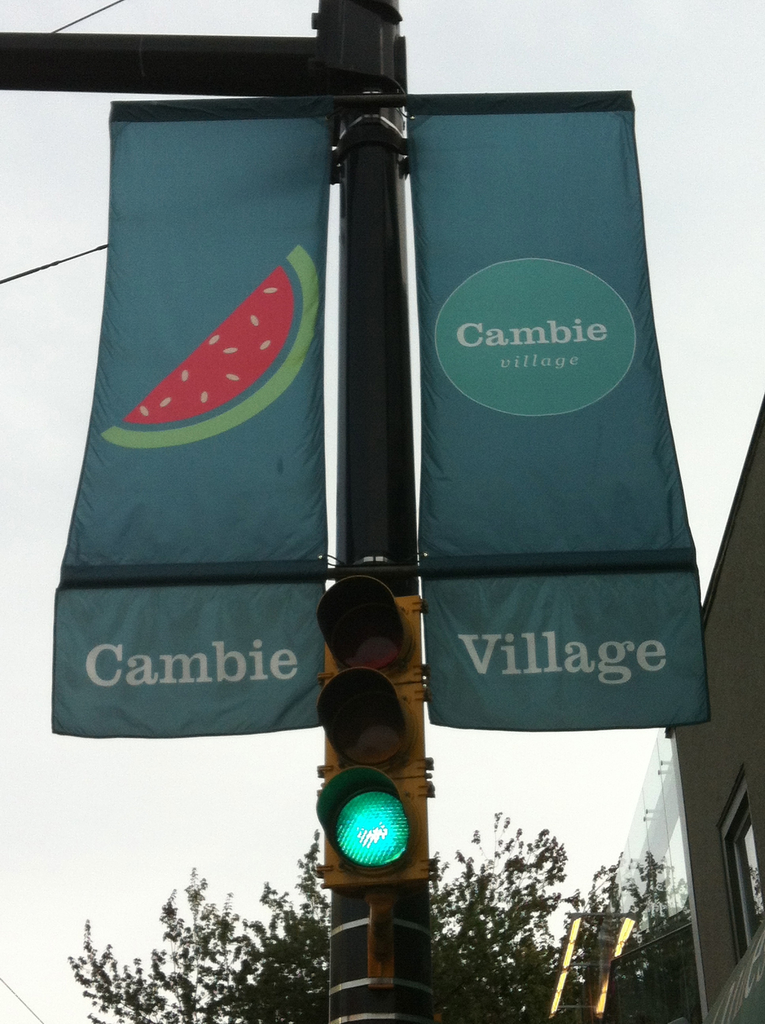green_light: (324, 593, 424, 886)
